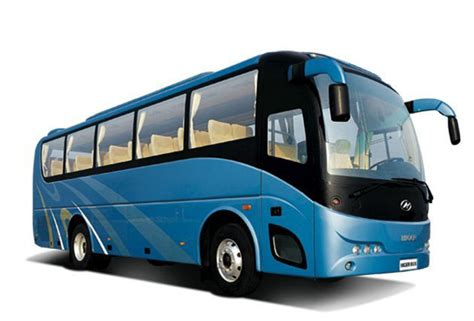bus: (33, 58, 429, 285)
